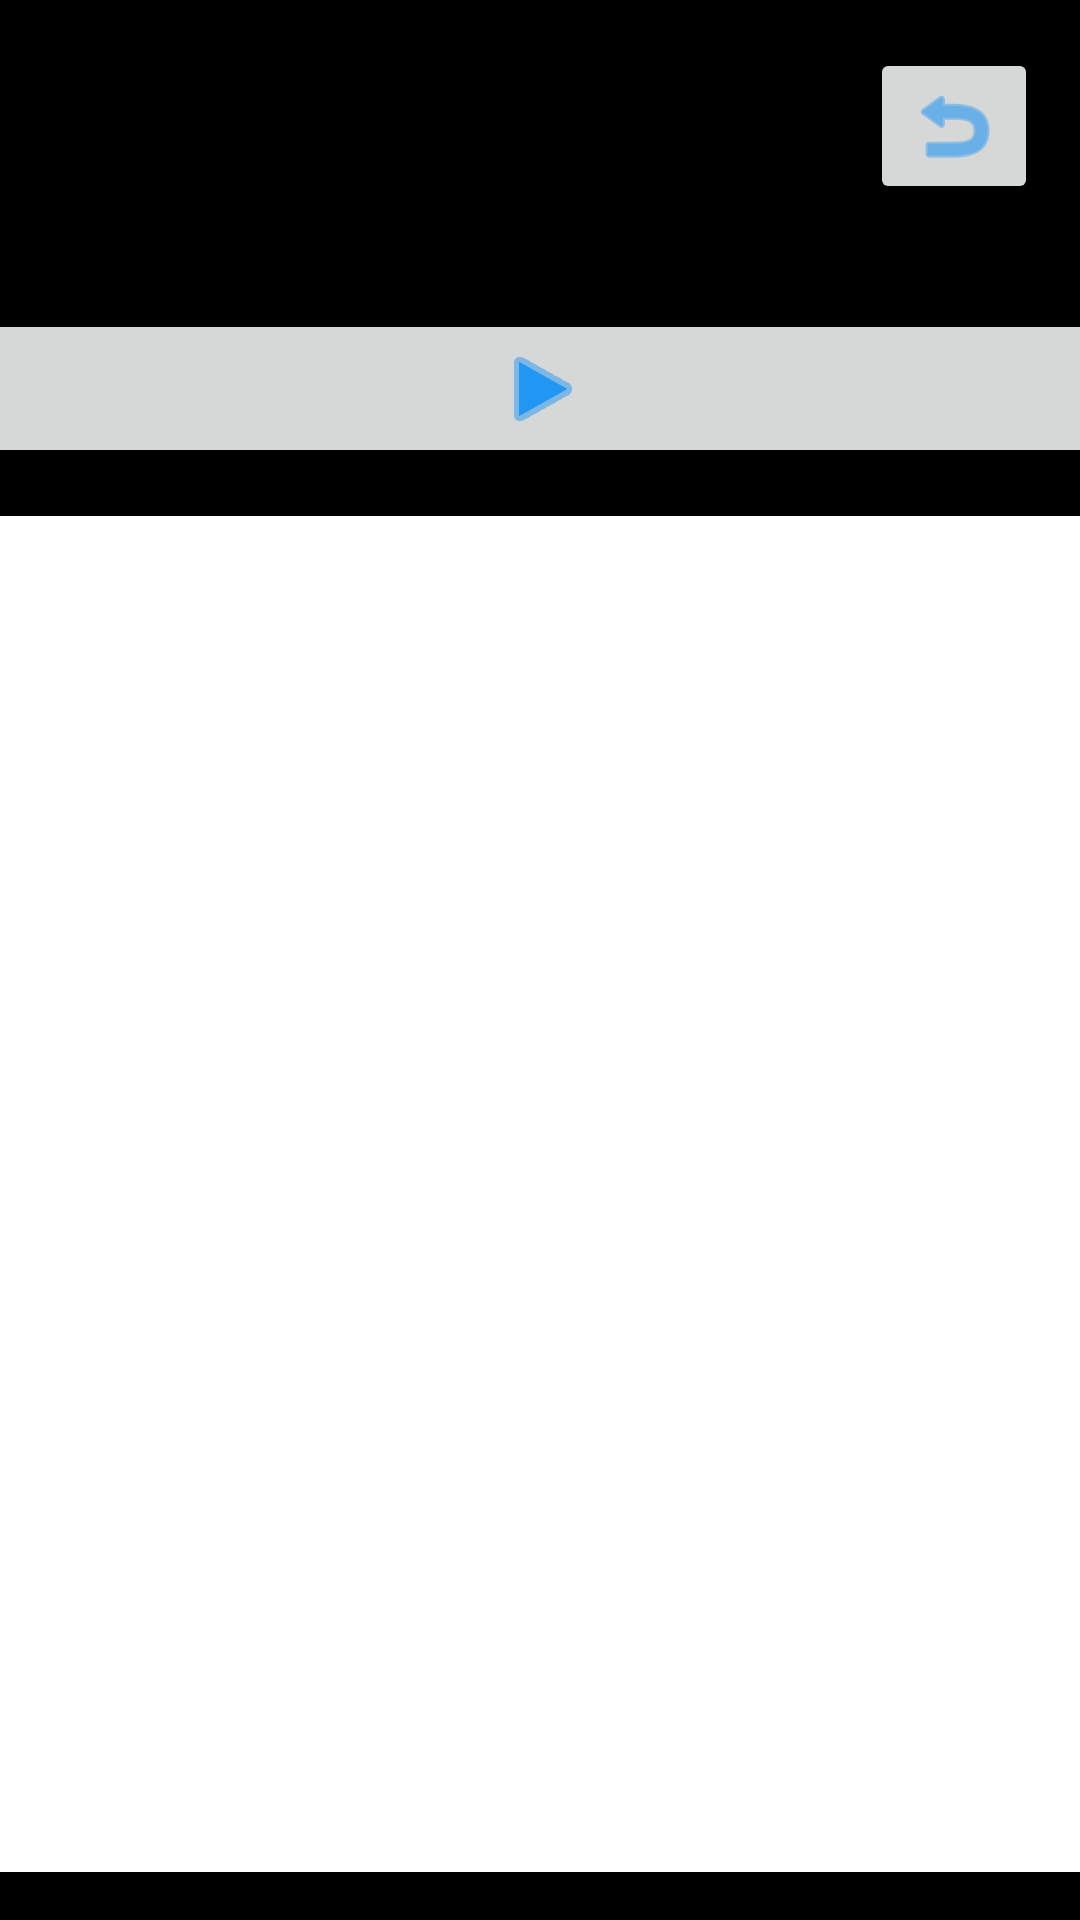

Icons on this 1080 x 1920 Android screen, each with its box as (left=x1, top=y1, right=x2, bottom=y2):
back: (left=882, top=66, right=1026, bottom=186)
